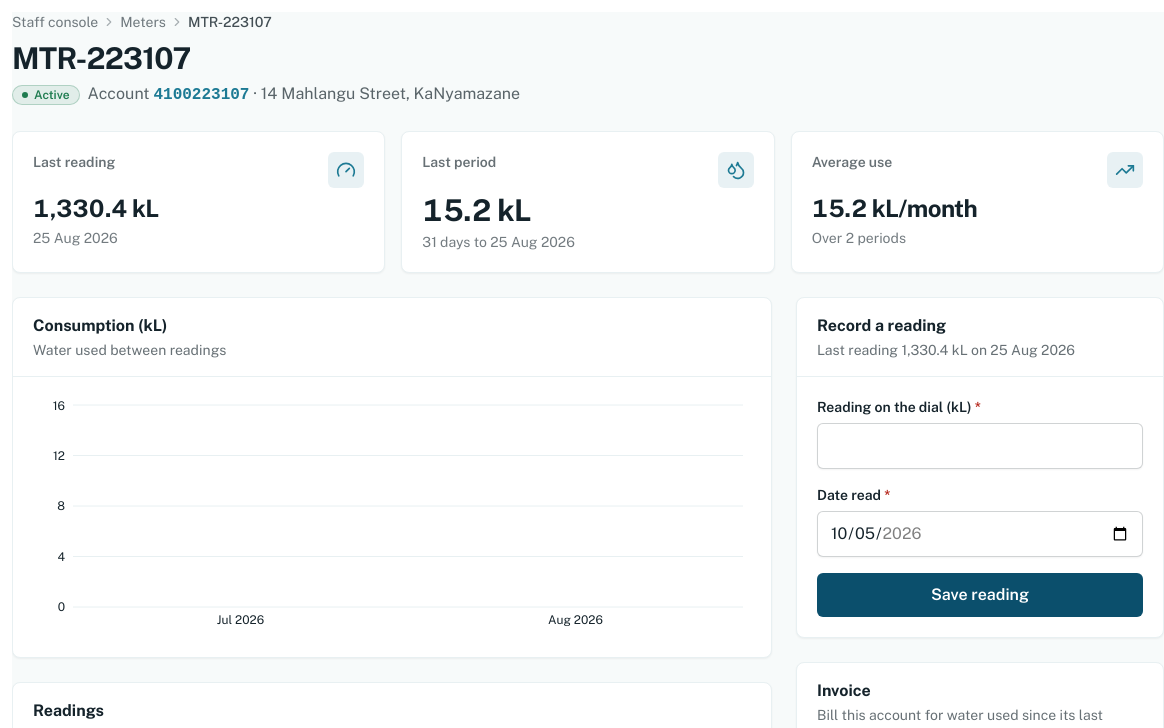
Test case: MeterDetailPage › refuses a reading lower than the last one
Check: the heading "Record a reading" is shown, box left=817, top=316, right=946, bottom=335
Type "1300" into the number field labelled "Reading on the dial (kL) *" at [980, 446], box left=817, top=423, right=1143, bottom=469
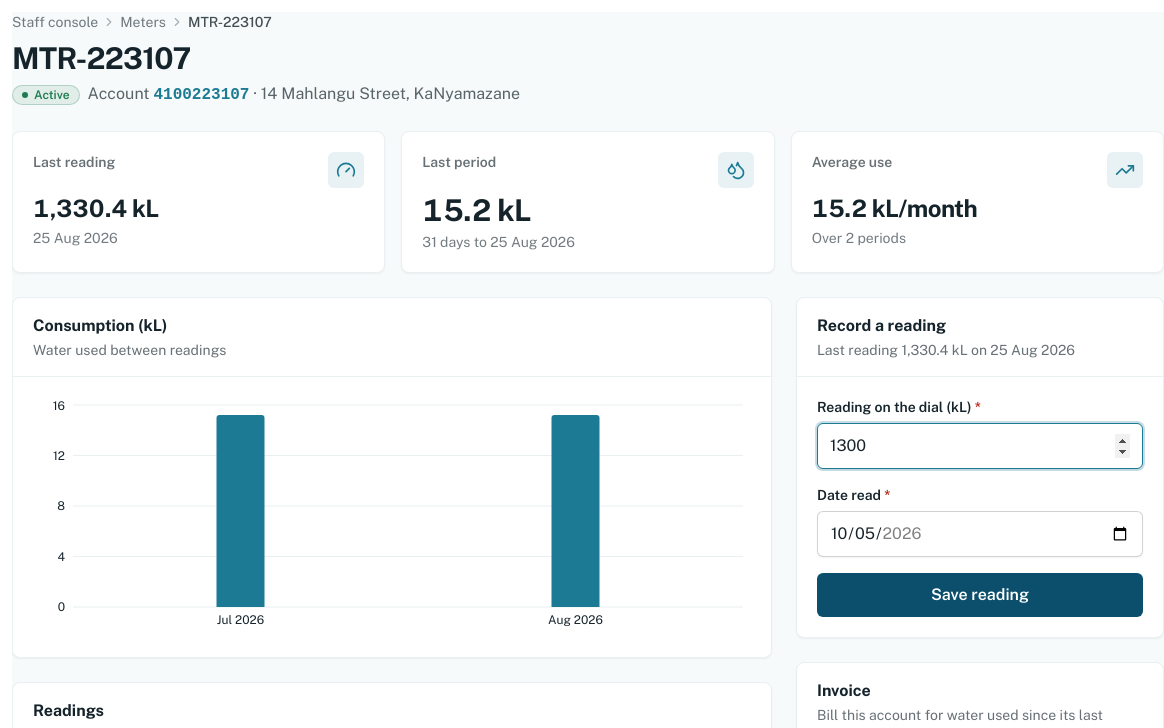
Click the button "Save reading" at [980, 595], box left=817, top=573, right=1143, bottom=617
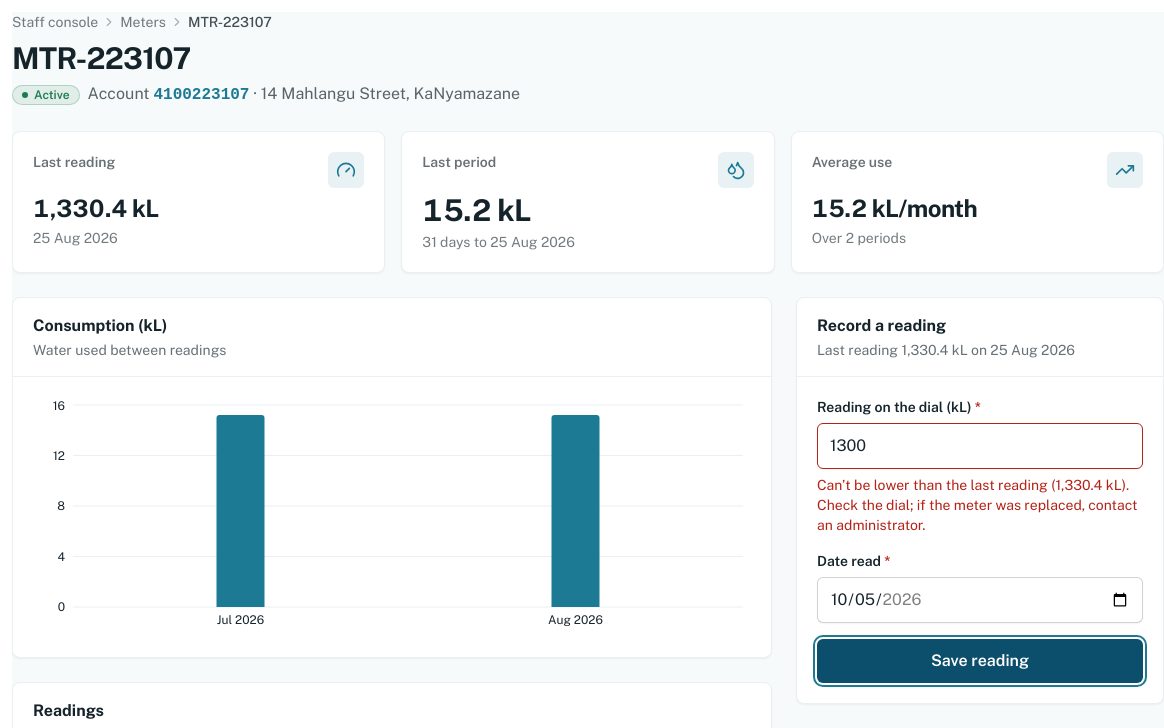
Check: the text "Can’t be lower than the last reading" is shown, box left=817, top=477, right=1137, bottom=533
